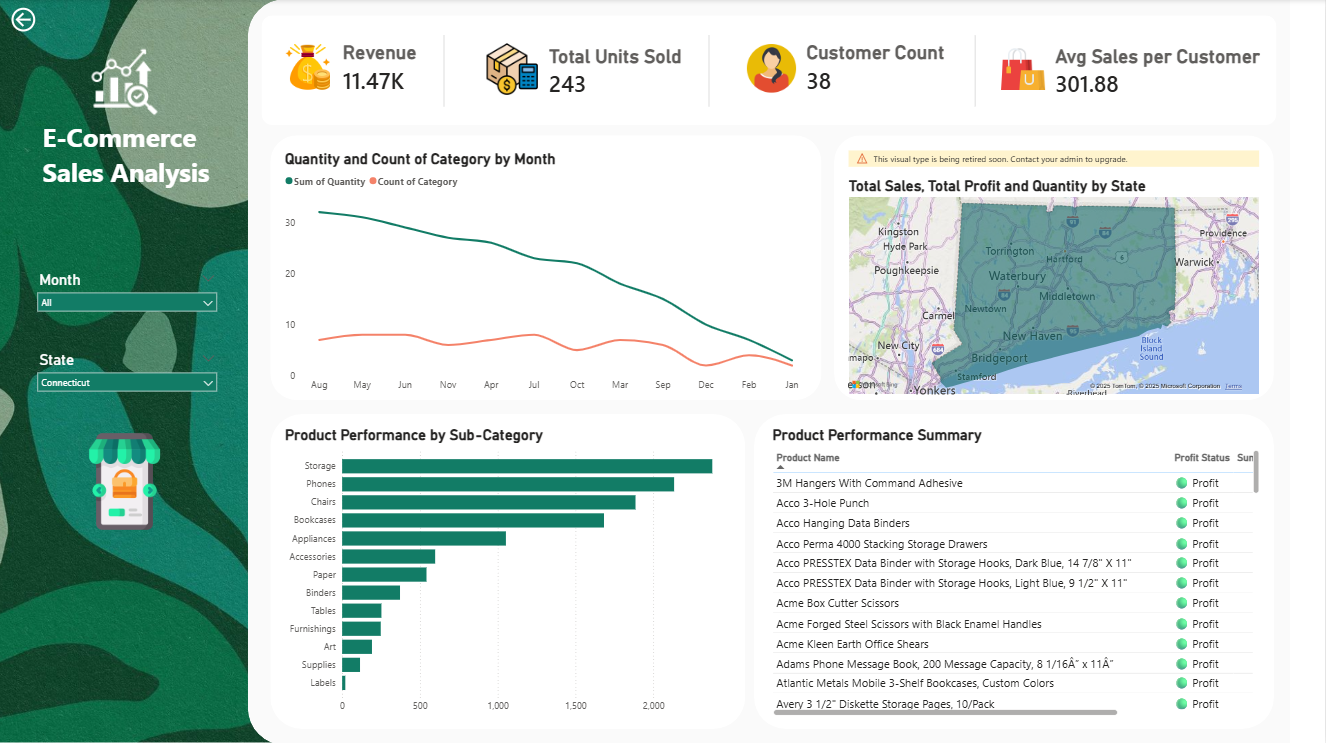

Layout of this report page (visuals, bound fields, positions):
{"tool":"powerbi","page":{"name":"Sales Performance","canvas":[1920,1080],"ordinal":1},"visuals":[{"type":"shape","box":[360.1,0,1509.3,1080.4],"z":0},{"type":"cardVisual","fields":{"Data":["Measures (2).Revenue"]},"box":[468.7,34.4,209.9,130.3],"z":0,"group":"g2"},{"type":"cardVisual","fields":{"Data":["Measures (2).Customer Count"]},"box":[1139.5,34.4,285.9,130.3],"z":0,"group":"g1"},{"type":"cardVisual","fields":{"Data":["Measures (2).Total Units Sold"]},"box":[767.9,39.8,291.4,130.3],"z":0,"group":"g3"},{"type":"cardVisual","fields":{"Data":["Measures (2).Avg Sales per Customer"]},"box":[1500.2,39.8,403.6,130.3],"z":0,"group":"g4"},{"type":"shape","box":[380,23.5,1469.4,159.3],"z":1000},{"type":"image","box":[699.1,61.5,88.7,79.6],"z":1000,"group":"g3"},{"type":"image","box":[409,65.2,76,67],"z":1000,"group":"g2"},{"type":"image","box":[1079.8,65.2,76,70.6],"z":1000,"group":"g1"},{"type":"image","box":[1445.9,66.9,74.2,70.6],"z":1000,"group":"g4"},{"type":"group","id":"g1","title":"Group 1","box":[1079.8,34.4,345.6,130.3],"z":2000},{"type":"group","id":"g2","title":"Group 2","box":[409,34.4,269.6,130.3],"z":3000},{"type":"group","id":"g3","title":"Group 3","box":[699.1,39.8,360.1,130.3],"z":4000},{"type":"group","id":"g4","title":"Group 4","box":[1445.9,39.8,457.8,130.3],"z":5000},{"type":"shape","box":[1208.9,197.3,637,383.6],"z":6000},{"type":"filledMap","title":"Total Sales, Total Profit and Quantity by State","fields":{"Category":["Sheet1.State"]},"box":[1225.1,219,604.4,358.3],"z":7000},{"type":"shape","box":[392.7,600.8,687.7,456],"z":8000},{"type":"clusteredBarChart","title":"Product Performance by Sub-Category","fields":{"Category":["Sheet1.Sub-Category"],"Y":["Measures (2).Total Sales"]},"box":[409,618.9,649.7,423.5],"z":9000},{"type":"shape","box":[392.7,197.3,798.1,383.6],"z":10000},{"type":"lineChart","title":"Quantity and Count of Category by Month","fields":{"Y":["Sum(Sheet1.Quantity)","CountNonNull(Sheet1.Category)"],"Category":["Sheet1.Month"]},"box":[409,219,769.1,358.3],"z":11000},{"type":"shape","box":[1093,600.8,752.8,456],"z":12000},{"type":"tableEx","title":"Product Performance Summary","fields":{"Values":["Sheet1.Product Name","Measures (2).Profit Status","Sum(Sheet1.Sales)","Sum(Sheet1.Profit)","Sum(Sheet1.Quantity)"]},"box":[1114.8,618.9,714.8,423.5],"z":13000},{"type":"shape","box":[501.3,52.5,285.9,103.2],"z":14000},{"type":"shape","box":[884.9,52.5,285.9,103.2],"z":15000},{"type":"shape","box":[1270.4,52.5,285.9,103.2],"z":16000},{"type":"image","box":[132.1,70.6,99.5,99.5],"z":17000},{"type":"textbox","box":[57.9,170.1,273.3,141.2],"z":18000},{"type":"slicer","fields":{"Values":["Sheet1.Month"]},"box":[45.2,389.1,280,70],"z":19000},{"type":"slicer","fields":{"Values":["Sheet1.State"]},"box":[45.2,504.9,280.5,70.6],"z":20000},{"type":"actionButton","box":[12.7,7.2,45.2,45.2],"z":21000},{"type":"image","box":[112.2,618.9,139.3,159.3],"z":21001}]}

Visuals, with their boxes in screenshot pixels (x1, y1, x2, y2), scaled from the page's 1920x1080 canvas onto the 1326x743 screenshot:
shape: detection(249, 0, 1291, 742)
cardVisual - Measures (2).Revenue: detection(324, 24, 469, 113)
cardVisual - Measures (2).Customer Count: detection(787, 24, 984, 113)
cardVisual - Measures (2).Total Units Sold: detection(530, 27, 732, 117)
cardVisual - Measures (2).Avg Sales per Customer: detection(1036, 27, 1315, 117)
shape: detection(262, 16, 1277, 126)
image: detection(483, 42, 544, 97)
image: detection(282, 45, 335, 91)
image: detection(746, 45, 798, 93)
image: detection(999, 46, 1050, 95)
"Group 1" group: detection(746, 24, 984, 113)
"Group 2" group: detection(282, 24, 469, 113)
"Group 3" group: detection(483, 27, 732, 117)
"Group 4" group: detection(999, 27, 1315, 117)
shape: detection(835, 136, 1275, 400)
"Total Sales, Total Profit and Quantity by State" filledMap: detection(846, 151, 1263, 397)
shape: detection(271, 413, 746, 727)
"Product Performance by Sub-Category" clusteredBarChart: detection(282, 426, 731, 717)
shape: detection(271, 136, 822, 400)
"Quantity and Count of Category by Month" lineChart: detection(282, 151, 814, 397)
shape: detection(755, 413, 1275, 727)
"Product Performance Summary" tableEx: detection(770, 426, 1264, 717)
shape: detection(346, 36, 544, 107)
shape: detection(611, 36, 809, 107)
shape: detection(877, 36, 1075, 107)
image: detection(91, 49, 160, 117)
textbox: detection(40, 117, 229, 214)
slicer - Sheet1.Month: detection(31, 268, 225, 316)
slicer - Sheet1.State: detection(31, 347, 225, 396)
actionButton: detection(9, 5, 40, 36)
image: detection(77, 426, 174, 535)
